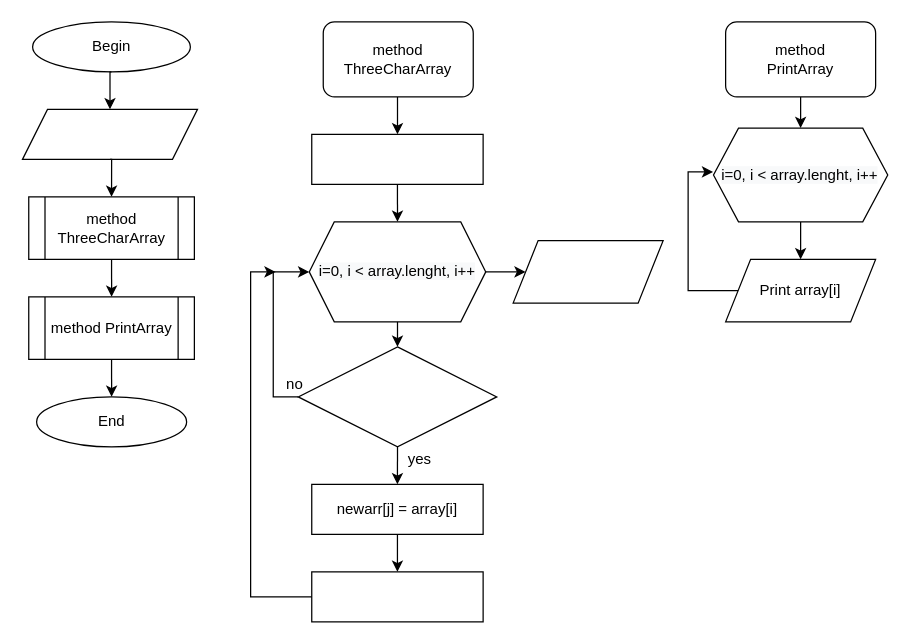
Image size: 910x644. Some labels were removed from this diagram. Each missing label, with the centre of its shape:
"array [i].lenght <= 3" belongs at point 397,396.
"j ++" belongs at point 396,596.
"j = 0" belongs at point 396,158.
"return newarr" belongs at point 587,271.
"string[] array string[] newarr" belongs at point 109,133.
